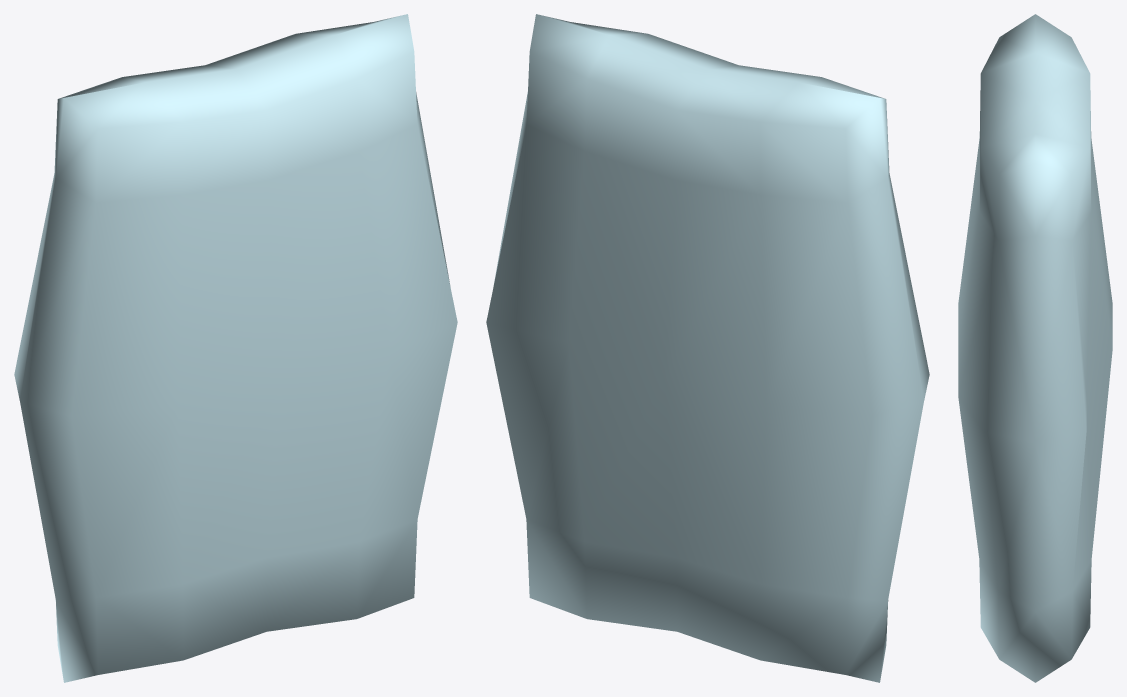
File: Pillow.FBX
The picture shows the model from 3 angles, left to right: view 1: azimuth 30°, elevation 25°; view 2: azimuth 150°, elevation 25°; view 3: azimuth 270°, elevation 25°; orthographic projection. The views are drawn at different scales.
Parts seen in each view (by area): view 1: Pillow; view 2: Pillow; view 3: Pillow.
Boxes of the visible parts, x1,y1,x2,y2 form: Pillow: (14,14,457,682); Pillow: (486,14,929,682); Pillow: (958,14,1112,682).
Size of the model in its own units: 153 by 53.38 by 198.
